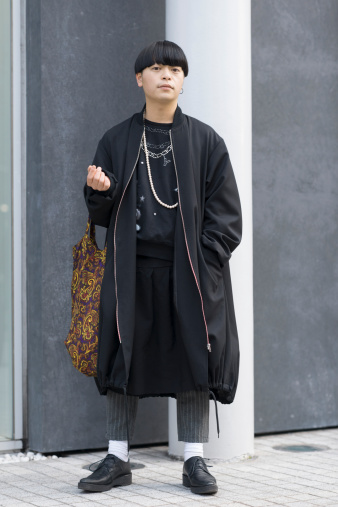em pe: (76, 23, 251, 489)
